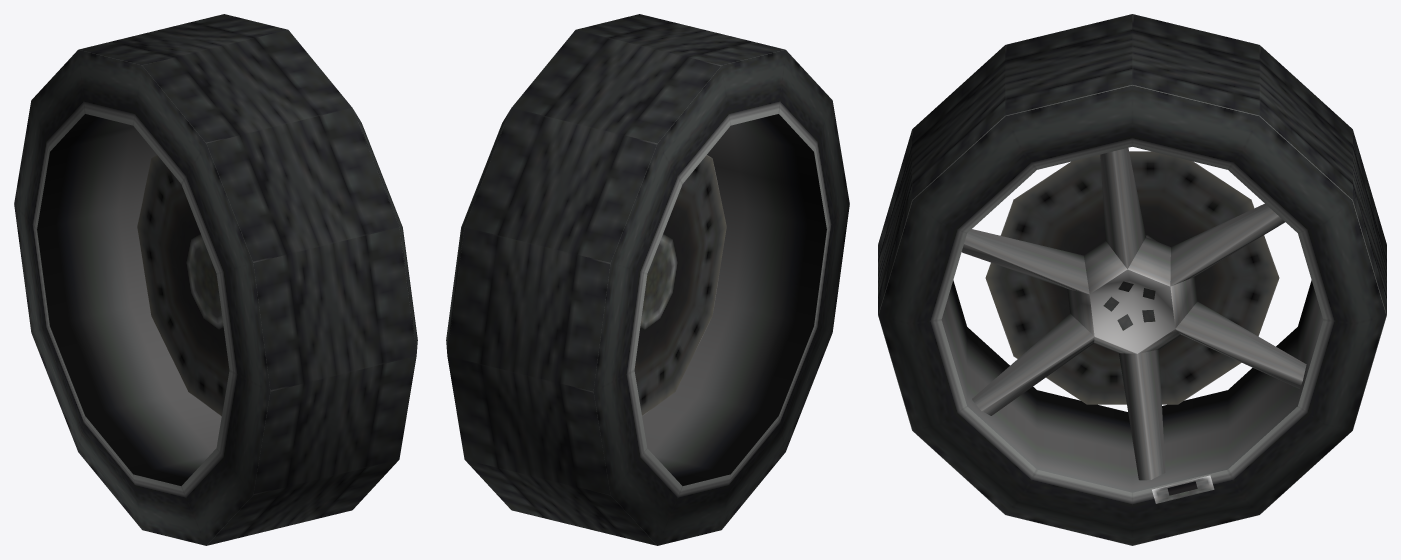
Rendered from DefaultWheel_zr350.glb.
The picture shows the model from 3 angles, left to right: view 1: azimuth 30°, elevation 25°; view 2: azimuth 150°, elevation 25°; view 3: azimuth 270°, elevation 25°; orthographic projection.
Parts seen in each view (by area): view 1: wheel; view 2: wheel; view 3: wheel.
Part boxes in pixels (x1,y1,x2,y2): wheel: [14, 14, 417, 545]; wheel: [446, 14, 849, 545]; wheel: [878, 14, 1386, 545].
Bounding box in the file's own units: 0.295 × 0.7598 × 0.7598.
Materials: 3 (3 with a texture image).
